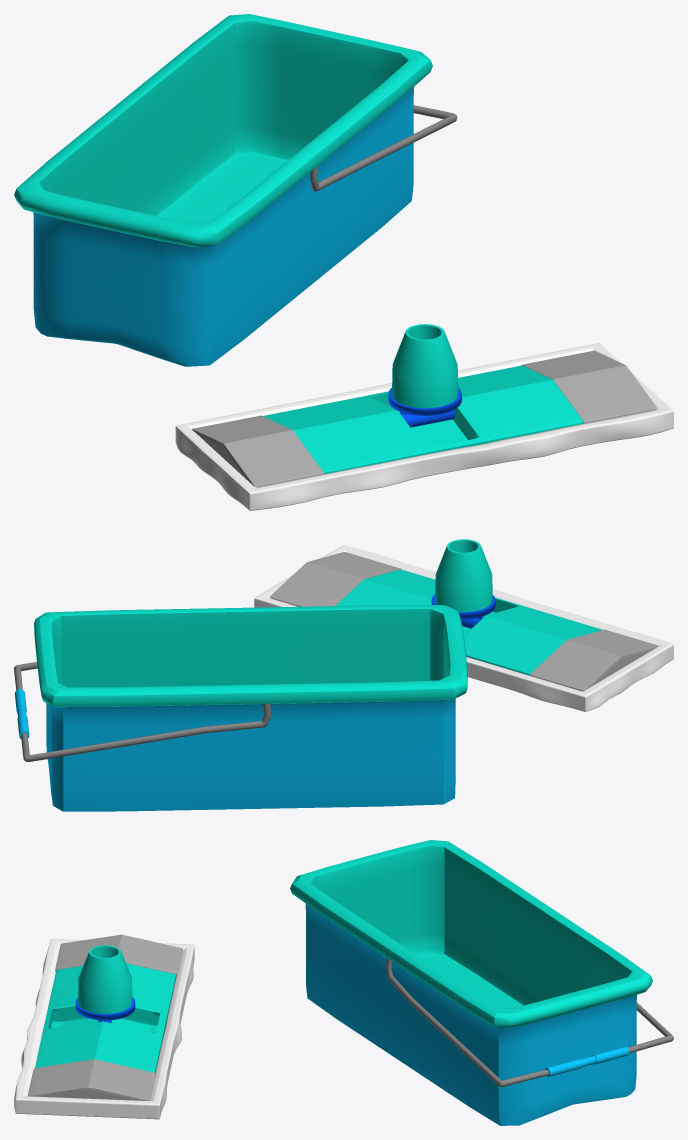
Rendered from dweil.fbx.
The picture shows the model from 3 angles, top to bottom: view 1: azimuth 30°, elevation 25°; view 2: azimuth 150°, elevation 25°; view 3: azimuth 270°, elevation 25°; orthographic projection. The views are drawn at different scales.
Parts seen in each view (by area): view 1: Cube.008, Cube.007, Cube.004, Cube.005, Cube.006, Cylinder.008, Cylinder.010; view 2: Cube.007, Cube.008, Cube.004, Cube.006, Cube.005, Cylinder.008, Cylinder.010, Cylinder.011; view 3: Cube.008, Cube.007, Cube.004, Cube.005, Cube.006, Cylinder.008, Cylinder.010, Cylinder.011, Cylinder.006.
Part boxes in pixels (<box>): Cube.008: <box>14,14,432,247</box>; Cube.007: <box>33,87,413,366</box>; Cube.004: <box>224,365,583,474</box>; Cube.005: <box>175,343,673,510</box>; Cube.006: <box>192,350,657,487</box>; Cylinder.008: <box>392,324,458,408</box>; Cylinder.010: <box>310,105,457,191</box>; Cube.007: <box>46,698,455,811</box>; Cube.008: <box>34,605,467,707</box>; Cube.004: <box>335,569,602,690</box>; Cube.006: <box>270,552,658,691</box>; Cube.005: <box>254,545,673,711</box>; Cylinder.008: <box>435,539,492,612</box>; Cylinder.010: <box>14,662,271,761</box>; Cylinder.011: <box>15,689,29,738</box>; Cube.008: <box>290,840,652,1028</box>; Cube.007: <box>305,904,636,1125</box>; Cube.004: <box>35,963,175,1072</box>; Cube.005: <box>14,939,194,1119</box>; Cube.006: <box>27,934,182,1100</box>; Cylinder.008: <box>78,945,132,1013</box>; Cylinder.010: <box>385,958,673,1086</box>; Cylinder.011: <box>545,1046,629,1076</box>; Cylinder.006: <box>75,997,135,1020</box>.
Size of the model in its own units: 408 by 117 by 591.
